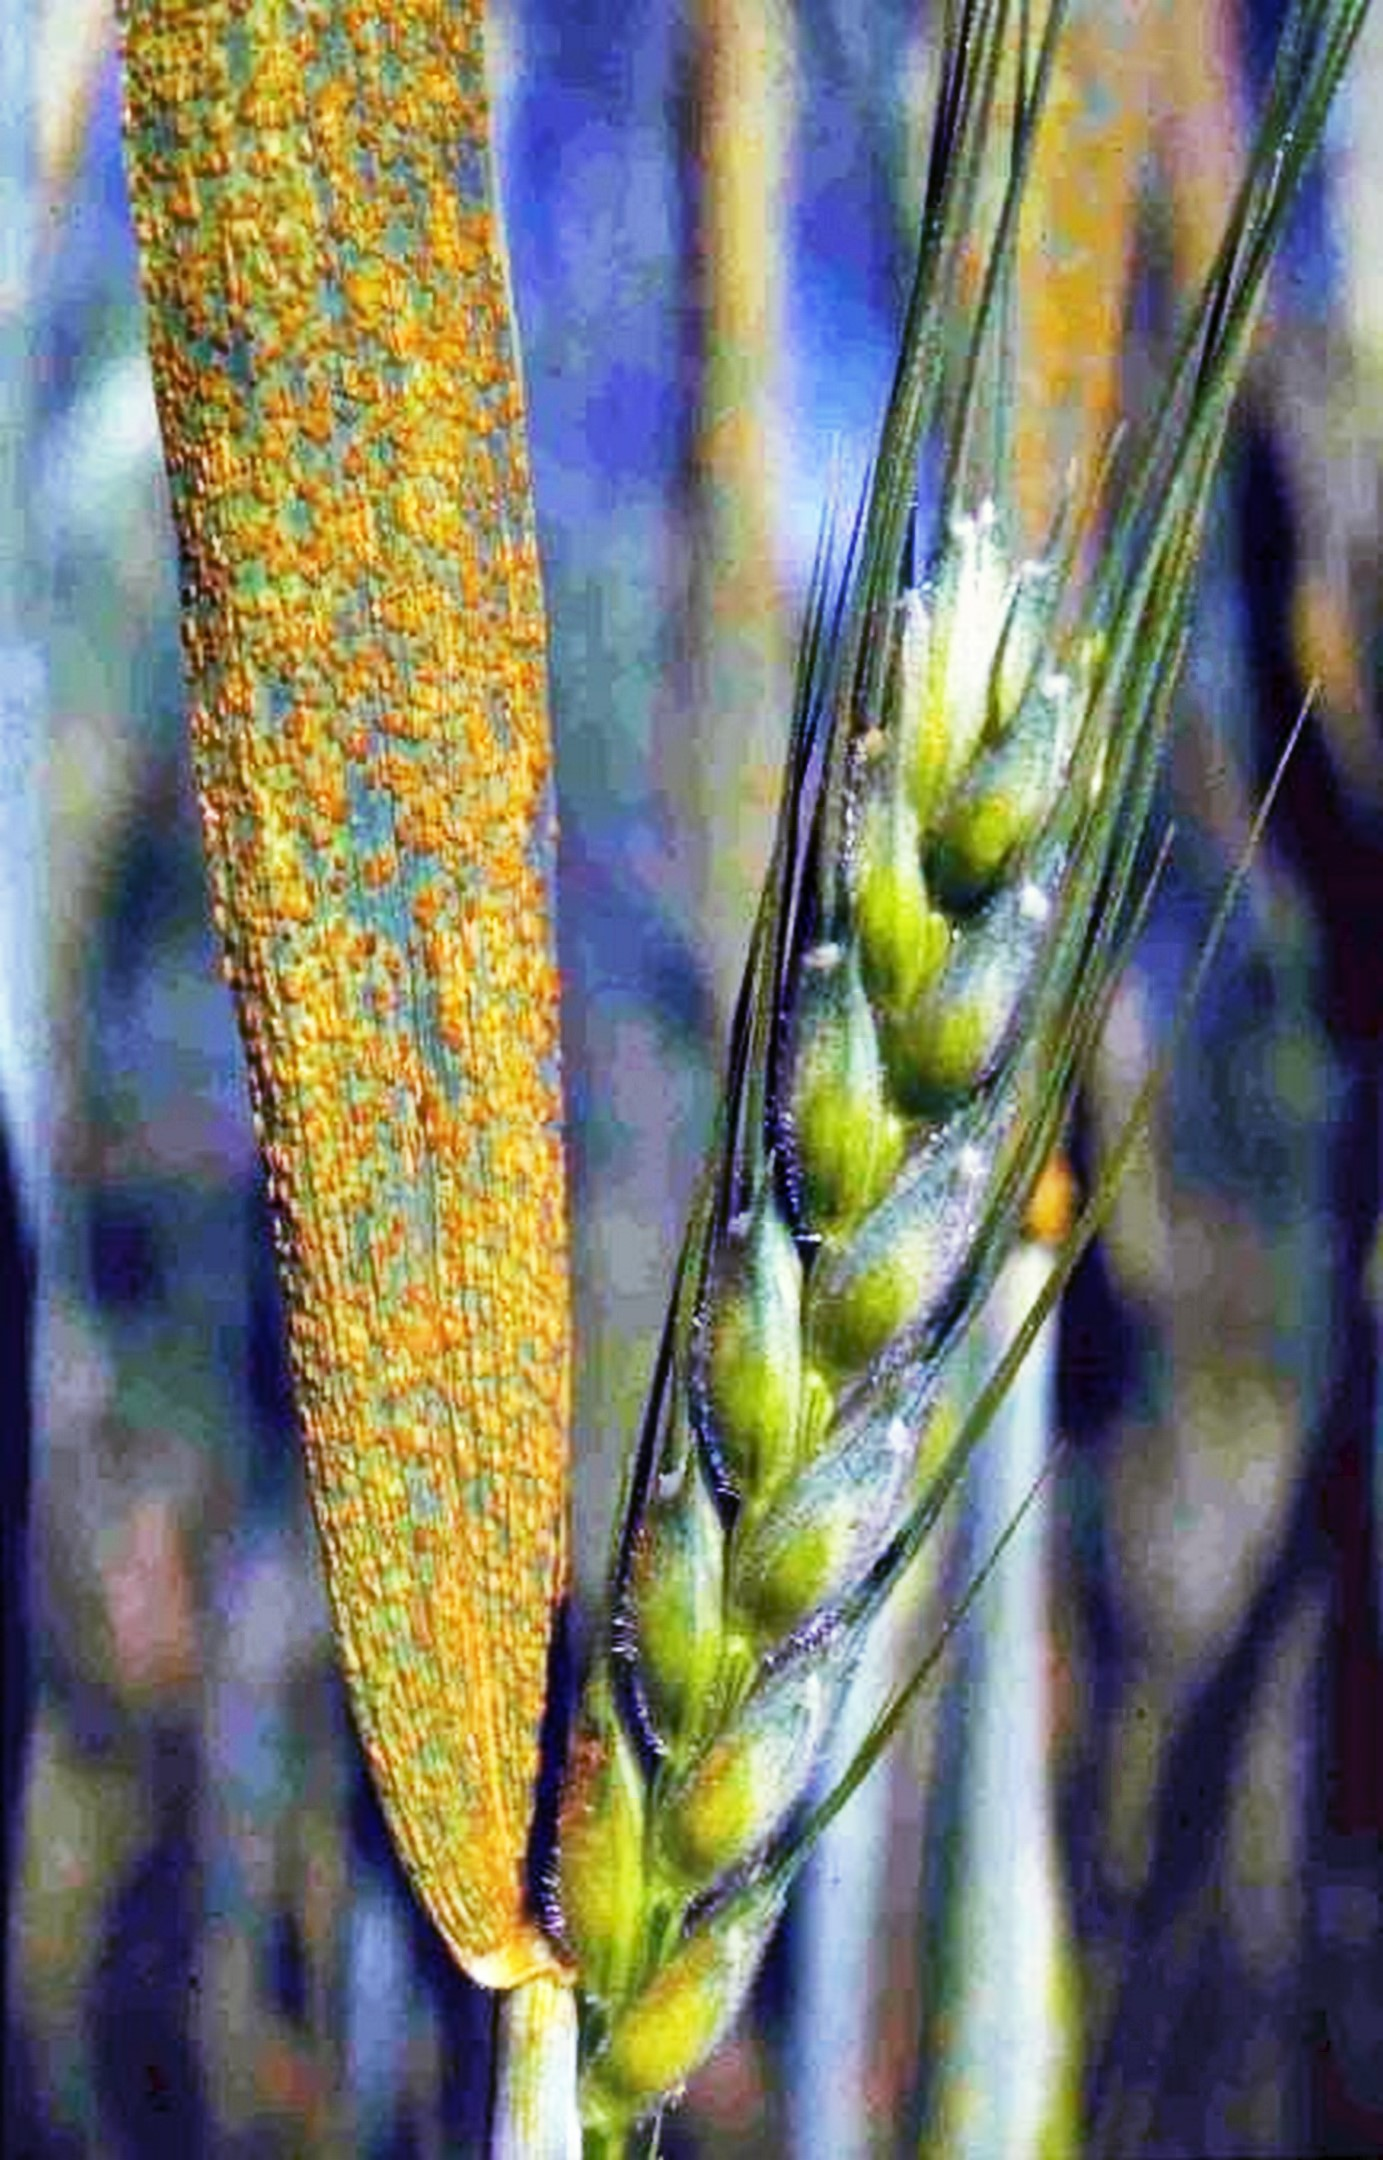Leaf Rust: (120, 24, 588, 1784)
